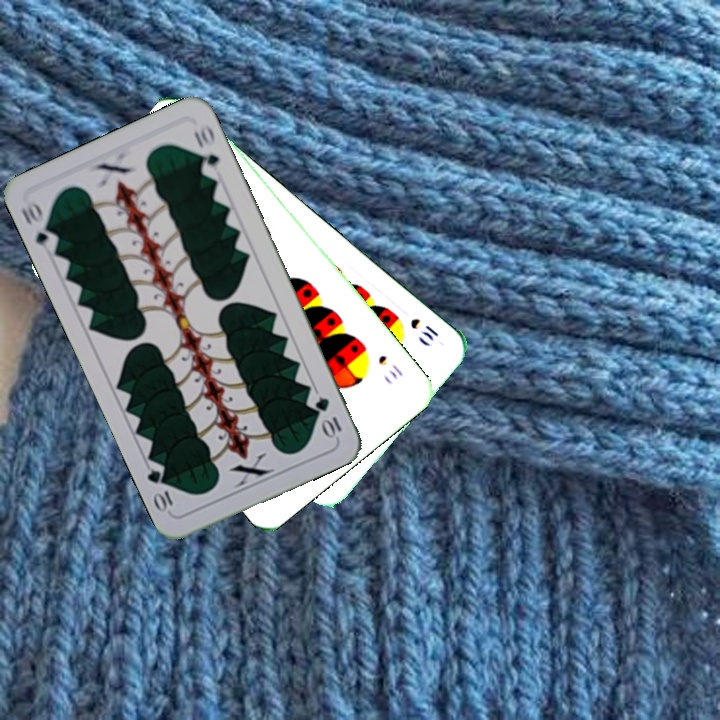G10: (17, 196, 61, 250), (311, 393, 345, 441)
S10: (406, 314, 442, 344), (374, 351, 406, 382)
